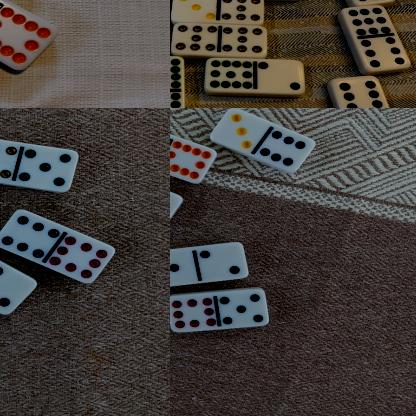pip-1: (170, 250, 196, 286)
pip-10: (0, 6, 55, 70), (170, 140, 215, 184)
pip-11: (205, 58, 255, 91), (170, 56, 183, 90)
pip-2: (197, 241, 248, 282), (0, 265, 36, 314), (255, 58, 303, 94), (170, 184, 182, 228)
pip-3: (209, 108, 263, 148), (170, 0, 217, 21)
pip-5: (16, 143, 78, 192), (217, 288, 270, 326)
pip-6: (0, 208, 58, 257), (258, 129, 314, 174), (328, 75, 387, 108), (356, 36, 410, 70)
pip-7: (220, 24, 267, 57), (170, 22, 218, 53), (217, 0, 263, 24), (0, 135, 18, 181)
pip-8: (48, 235, 115, 284), (170, 294, 216, 330)
pip-9: (340, 6, 393, 36)
